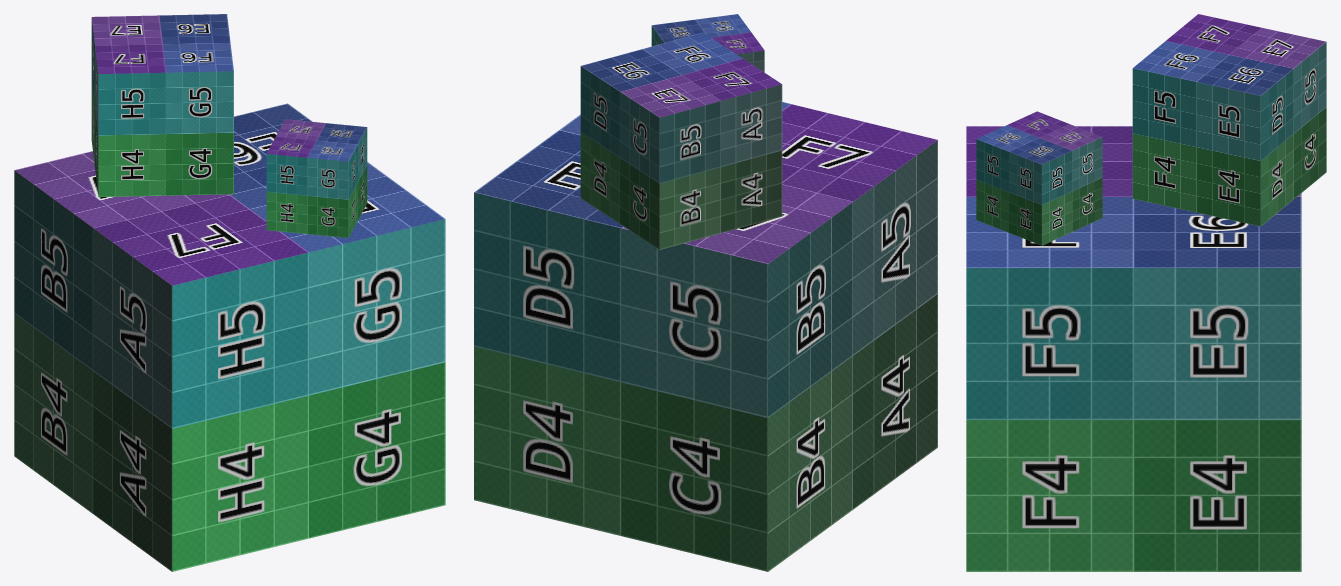
Rendered from boxes-sculpt-2.glb.
3 views of the same model, side by side, from view 1: azimuth 30°, elevation 25°; view 2: azimuth 150°, elevation 25°; view 3: azimuth 270°, elevation 25° (orthographic). The views are drawn at different scales.
Parts seen in each view (by area): view 1: Cube, Cube.001, Cube.002; view 2: Cube, Cube.001, Cube.002; view 3: Cube, Cube.001, Cube.002.
Boxes of the visible parts, x1,y1,x2,y2 form: Cube: (14, 103, 445, 571); Cube.001: (91, 14, 233, 196); Cube.002: (266, 119, 367, 237); Cube: (474, 102, 937, 571); Cube.001: (580, 32, 782, 249); Cube.002: (651, 14, 764, 72); Cube: (966, 126, 1301, 571); Cube.001: (1132, 14, 1326, 226); Cube.002: (976, 111, 1102, 245).
Size of the model in its own units: 2 by 2.86 by 2.15.
Materials: 1 (1 with a texture image).
